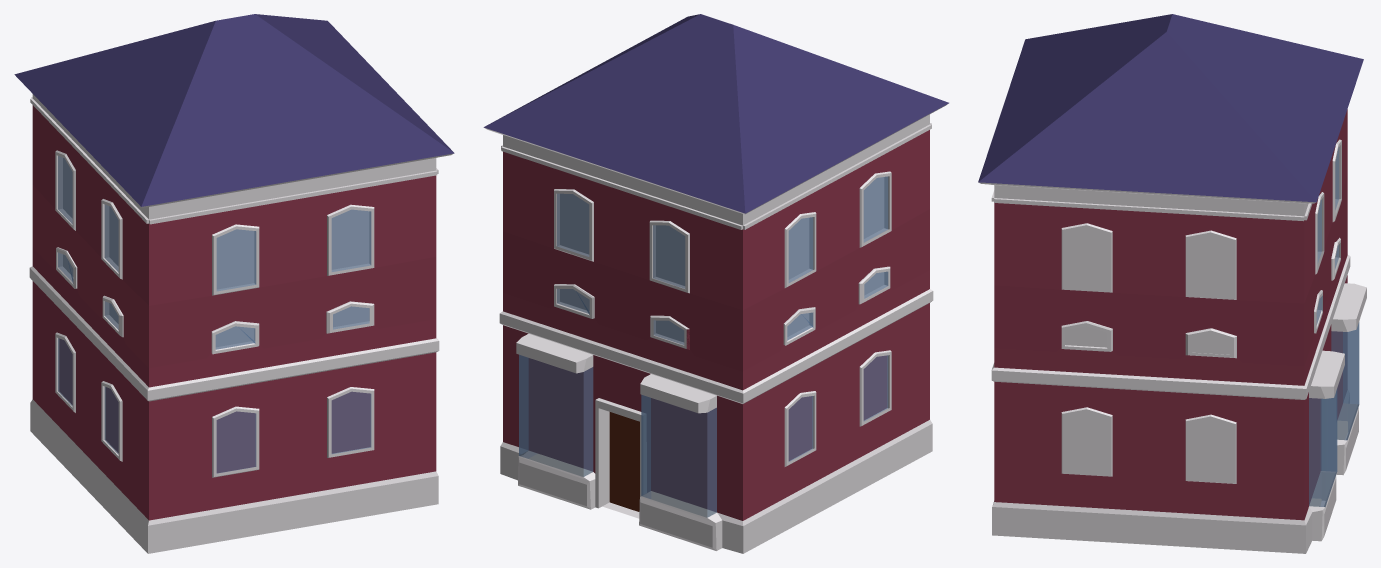
The model's file is CityApart3.fbx.
The picture shows the model from 3 angles, left to right: view 1: azimuth 30°, elevation 25°; view 2: azimuth 150°, elevation 25°; view 3: azimuth 270°, elevation 25°; orthographic projection. The views are drawn at different scales.
Parts seen in each view (by area): view 1: 3; view 2: 3; view 3: 3.
Boxes of the visible parts, <box> form: 3: <box>14,14,454,553</box>; 3: <box>483,14,948,553</box>; 3: <box>978,14,1366,553</box>.
Bounding box in the file's own units: 7.59 × 9.89 × 7.65.
